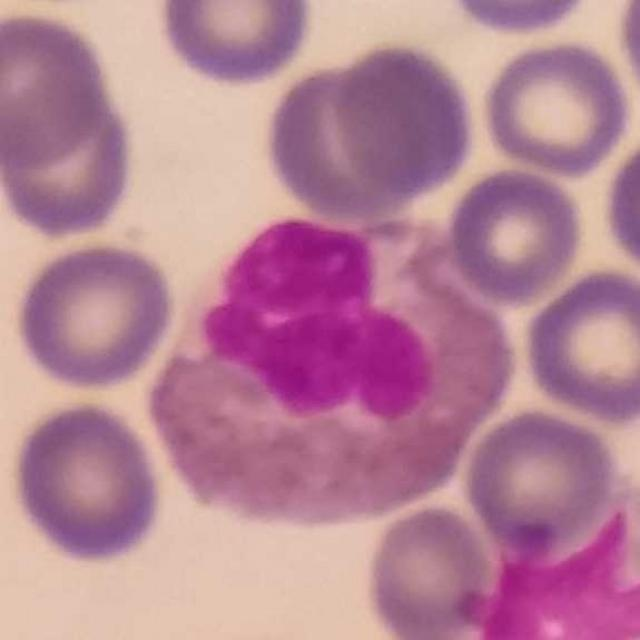eosino: (147, 213, 518, 526)
